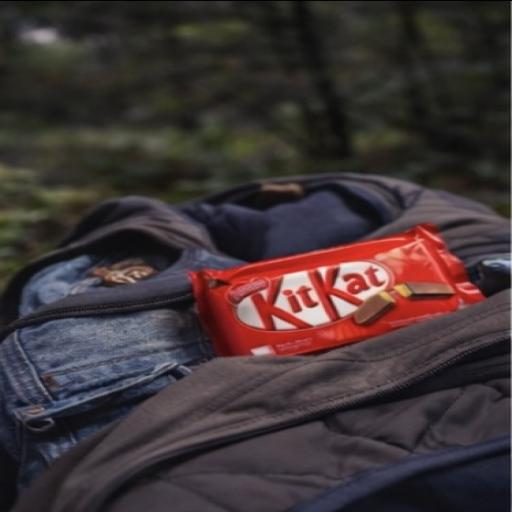kitkat: (147, 217, 512, 426)
